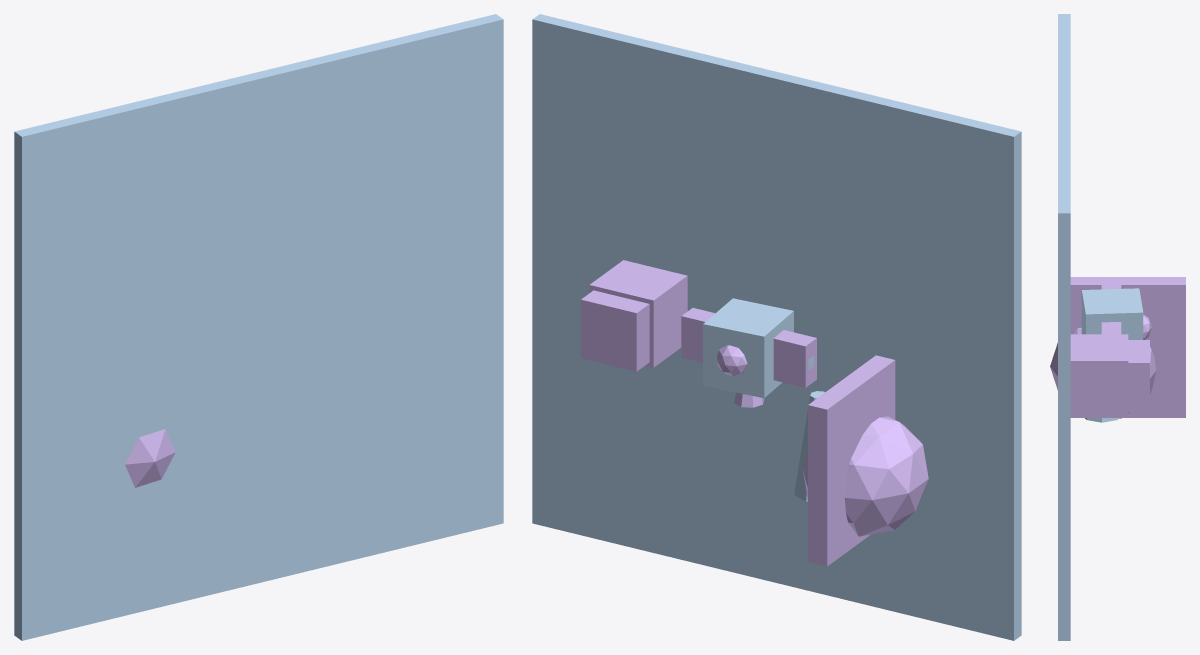
The model's file is orbital-command-kit.glb.
3 views of the same model, side by side, from view 1: azimuth 30°, elevation 25°; view 2: azimuth 150°, elevation 25°; view 3: azimuth 270°, elevation 25° (orthographic). The views are drawn at different scales.
Parts seen in each view (by area): view 1: ENVIRONMENT_GROUND, PROFILE_ENVIRONMENT_DETAIL; view 2: ENVIRONMENT_GROUND, ENVIRONMENT_PANEL, PROFILE_ENVIRONMENT_DETAIL, PLAYER_BODY, OBSTACLE, PROFILE_OBSTACLE_DETAIL, PROFILE_PLAYER_DETAIL, PLAYER_CORE; view 3: ENVIRONMENT_GROUND, ENVIRONMENT_PANEL, OBSTACLE, PLAYER_BODY, PROFILE_OBSTACLE_DETAIL, PROFILE_ENVIRONMENT_DETAIL, PROFILE_PLAYER_DETAIL.
Boxes of the visible parts, x1,y1,x2,y2 form: ENVIRONMENT_GROUND: [14, 14, 503, 640]; PROFILE_ENVIRONMENT_DETAIL: [125, 429, 175, 487]; ENVIRONMENT_GROUND: [532, 14, 1021, 640]; ENVIRONMENT_PANEL: [808, 355, 895, 566]; PROFILE_ENVIRONMENT_DETAIL: [802, 416, 928, 536]; PLAYER_BODY: [703, 298, 793, 398]; OBSTACLE: [589, 260, 687, 367]; PROFILE_OBSTACLE_DETAIL: [581, 290, 649, 371]; PROFILE_PLAYER_DETAIL: [681, 308, 816, 387]; PLAYER_CORE: [716, 345, 747, 376]; ENVIRONMENT_GROUND: [1058, 14, 1070, 640]; ENVIRONMENT_PANEL: [1070, 277, 1185, 417]; OBSTACLE: [1070, 334, 1128, 417]; PLAYER_BODY: [1081, 288, 1143, 339]; PROFILE_OBSTACLE_DETAIL: [1128, 340, 1149, 412]; PROFILE_ENVIRONMENT_DETAIL: [1050, 327, 1156, 418]; PROFILE_PLAYER_DETAIL: [1101, 284, 1121, 334].
Size of the model in its own units: 9 by 9 by 2.59.
